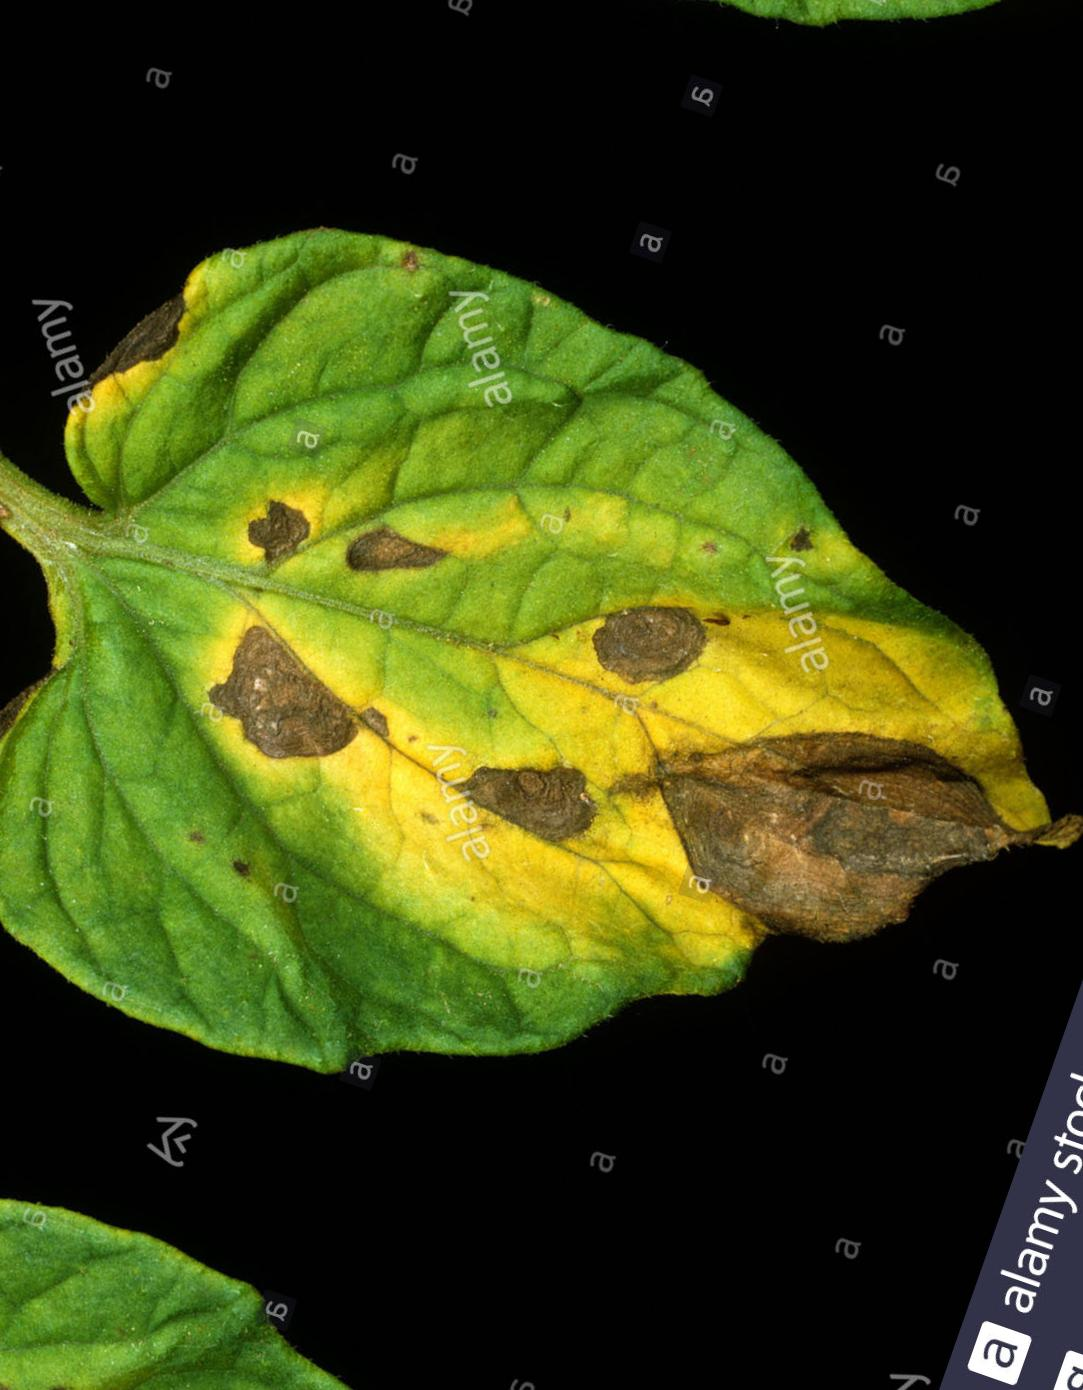Tomato Early blight leaf: (0, 135, 1083, 1295)
